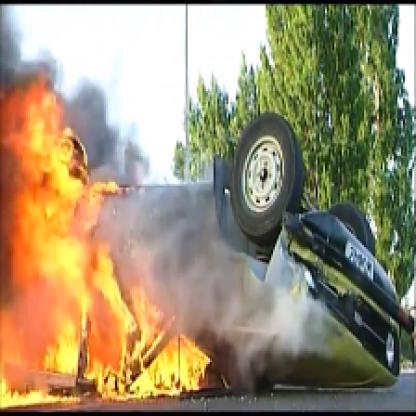Fire: (2, 80, 212, 405)
